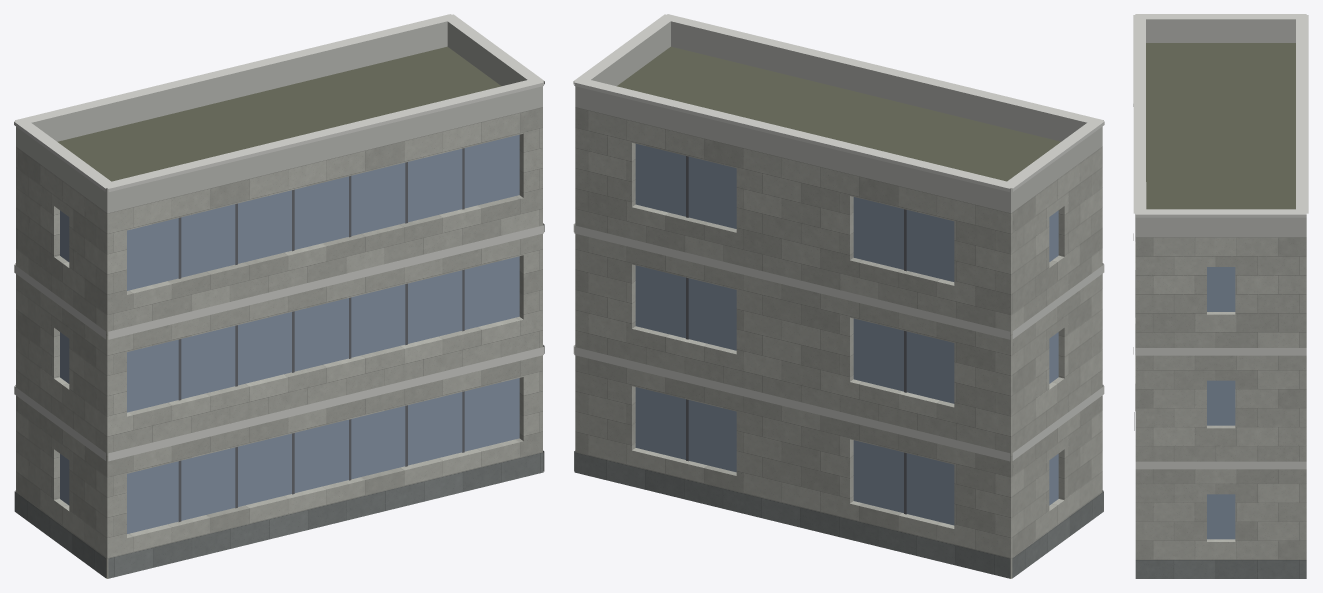
3 renders of one model, left to right at view 1: azimuth 30°, elevation 25°; view 2: azimuth 150°, elevation 25°; view 3: azimuth 270°, elevation 25°, orthographic. The views are drawn at different scales.
Visible parts, largest first — view 1: b113_annex__wall, b113_annex__glass, b113_annex__parapet, b113_annex__roof, b113_annex__trim, b113_annex__base, b113_annex__frame; view 2: b113_annex__wall, b113_annex__glass, b113_annex__parapet, b113_annex__roof, b113_annex__trim, b113_annex__base, b113_annex__frame; view 3: b113_annex__wall, b113_annex__roof, b113_annex__trim, b113_annex__parapet, b113_annex__glass, b113_annex__base.
Part boxes in pixels (x1,y1,x2,y2): b113_annex__wall: (16, 107, 542, 578); b113_annex__glass: (60, 134, 519, 533); b113_annex__parapet: (16, 21, 542, 213); b113_annex__roof: (57, 46, 501, 578); b113_annex__trim: (14, 14, 544, 461); b113_annex__base: (14, 450, 544, 578); b113_annex__frame: (178, 148, 464, 521); b113_annex__wall: (575, 107, 1102, 578); b113_annex__glass: (635, 144, 1058, 525); b113_annex__parapet: (575, 21, 1102, 213); b113_annex__roof: (617, 46, 1060, 578); b113_annex__trim: (573, 14, 1104, 461); b113_annex__base: (574, 451, 1103, 578); b113_annex__frame: (686, 156, 906, 514); b113_annex__wall: (1135, 214, 1306, 559); b113_annex__roof: (1146, 43, 1295, 209); b113_annex__trim: (1133, 14, 1308, 469); b113_annex__parapet: (1135, 19, 1306, 237); b113_annex__glass: (1207, 267, 1235, 539); b113_annex__base: (1134, 412, 1306, 578).
Bounding box in the file's own units: 13.62 × 11.57 × 5.03.
Materials: 7 (2 with a texture image).
